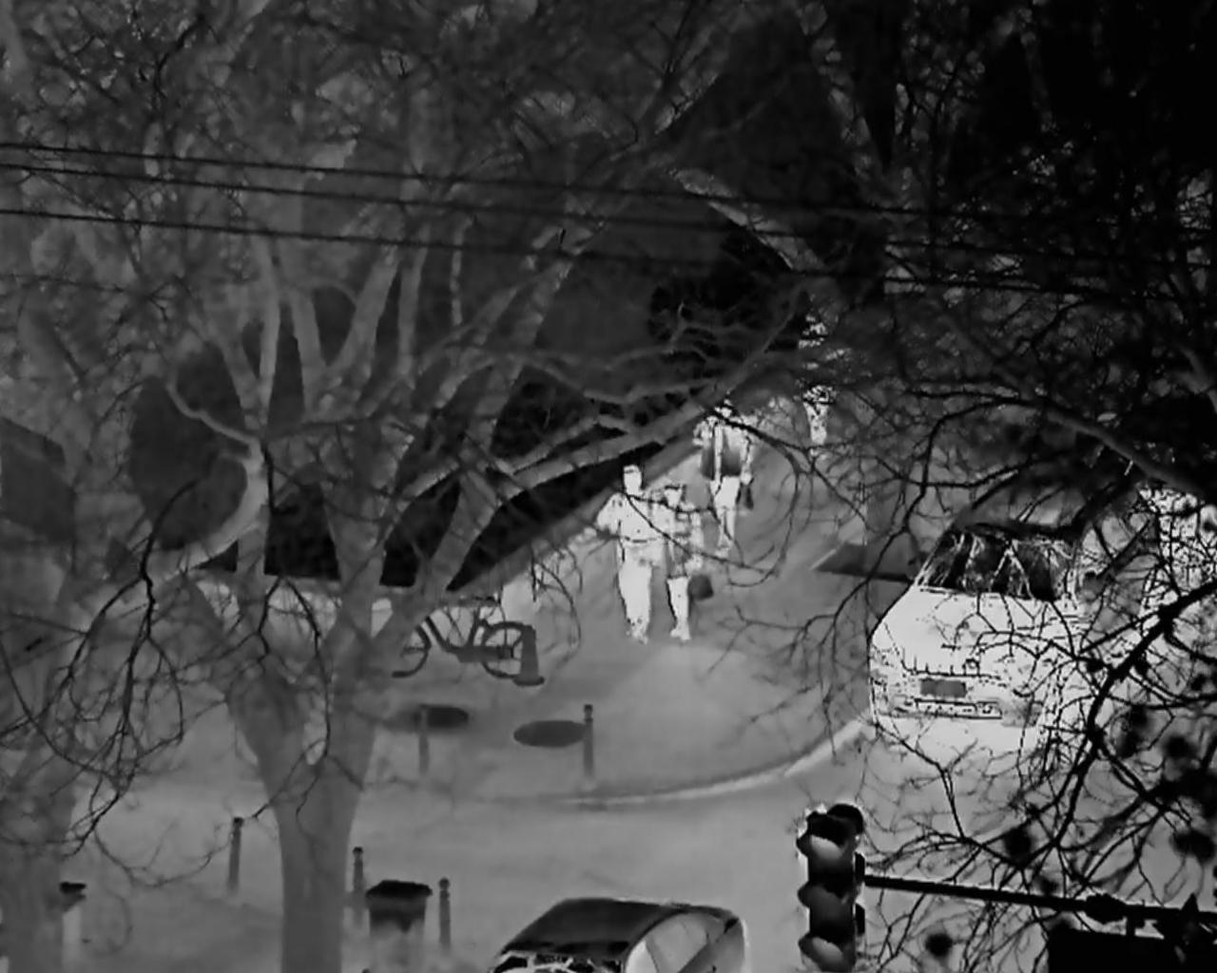person: (595, 462, 658, 641), (695, 399, 750, 558), (655, 478, 705, 643)
